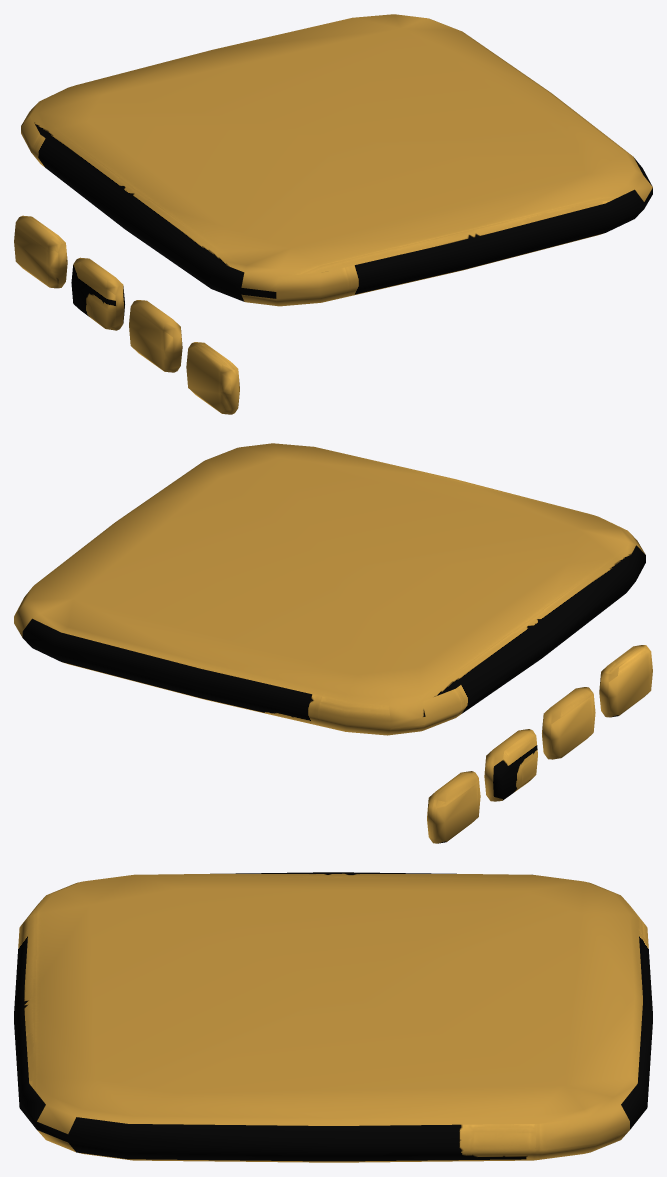
Rendered from Centinela_GuanteDer_Oro.fbx.
3 views of the same model, one above another, from view 1: azimuth 30°, elevation 25°; view 2: azimuth 150°, elevation 25°; view 3: azimuth 270°, elevation 25° (orthographic). The views are drawn at different scales.
Parts seen in each view (by area): view 1: Centinela_GuanteDer_Oro; view 2: Centinela_GuanteDer_Oro; view 3: Centinela_GuanteDer_Oro.
Part boxes in pixels (x1,y1,x2,y2): Centinela_GuanteDer_Oro: [14, 14, 652, 414]; Centinela_GuanteDer_Oro: [14, 443, 652, 843]; Centinela_GuanteDer_Oro: [14, 872, 652, 1162].
Size of the model in its own units: 1.14 by 0.3763 by 1.19.
